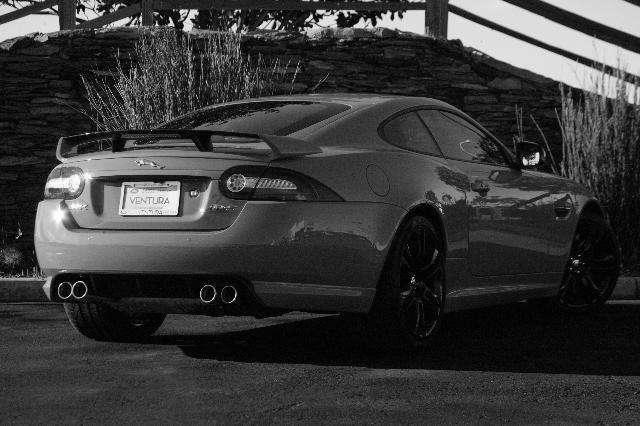car: (34, 93, 620, 350)
